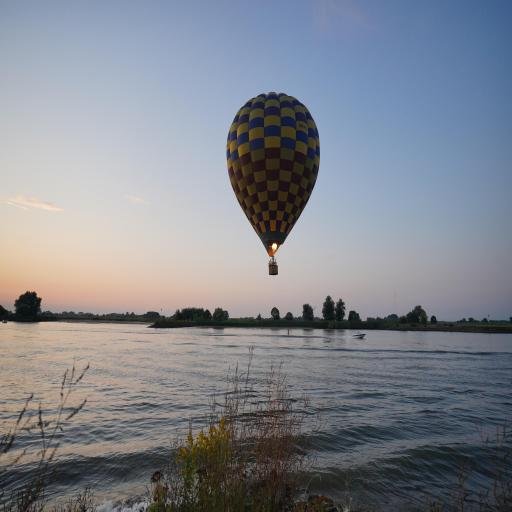hot air ballon: (226, 94, 321, 276)
